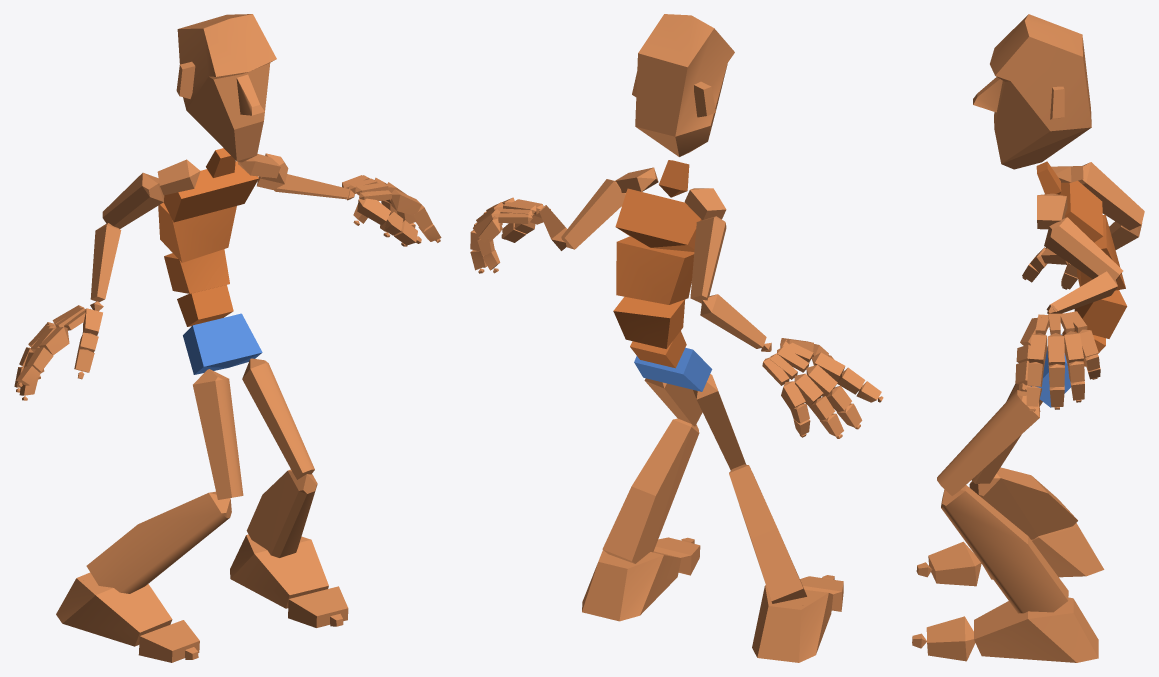
The model's file is prueba170.obj.
The picture shows the model from 3 angles, left to right: view 1: azimuth 30°, elevation 25°; view 2: azimuth 150°, elevation 25°; view 3: azimuth 270°, elevation 25°; orthographic projection. The views are drawn at different scales.
Parts seen in each view (by area): view 1: BOPED_Head, BOPED_R_leg, BOPED_R_foot, BOPED_R_foot01, BOPED_R_legup, BOPED_L_leg, BOPED_L_legup, Bone01, Bone04, Bone05, Bone03, BOPED_R_arm_upper (+8 smaller); view 2: BOPED_Head, BOPED_L_leg, BOPED_R_foot01, BOPED_R_foot, BOPED_R_leg, Bone04, Bone05, Bone03, BOPED_R_arm_upper, BOPED_L_arm_upper, BOPED_R_legup, Bone01 (+9 smaller); view 3: BOPED_Head, BOPED_L_leg, BOPED_R_foot01, BOPED_R_leg, BOPED_L_legup, BOPED_R_foot, BOPED_L_arm_upper, BOPED_R_arm_upper, BOPED_R_foot_toe01, BOPED_R_foot_toe04, Bone05, Bone03 (+14 smaller).
Part boxes in pixels (x1,y1,x2,y2): BOPED_Head: (176, 14, 276, 162); BOPED_R_leg: (86, 491, 231, 593); BOPED_R_foot: (56, 572, 172, 646); BOPED_R_foot01: (230, 534, 328, 608); BOPED_R_legup: (193, 369, 243, 499); BOPED_L_leg: (246, 469, 317, 557); BOPED_L_legup: (242, 358, 314, 479); Bone01: (183, 313, 262, 374); Bone04: (158, 202, 236, 262); Bone05: (164, 161, 258, 222); Bone03: (164, 249, 229, 293); BOPED_R_arm_upper: (102, 172, 164, 228); BOPED_Head: (632, 14, 734, 156); BOPED_L_leg: (602, 418, 699, 563); BOPED_R_foot01: (582, 550, 681, 621); BOPED_R_foot: (752, 585, 833, 662); BOPED_R_leg: (729, 464, 806, 603); Bone04: (616, 236, 694, 304); Bone05: (615, 188, 701, 251); Bone03: (613, 296, 685, 348); BOPED_R_arm_upper: (690, 216, 726, 303); BOPED_L_arm_upper: (561, 179, 625, 249); BOPED_R_legup: (693, 374, 745, 470); Bone01: (634, 347, 712, 391); BOPED_Head: (973, 14, 1091, 169); BOPED_L_leg: (941, 485, 1068, 613); BOPED_R_foot01: (974, 597, 1098, 662); BOPED_R_leg: (969, 467, 1077, 539); BOPED_L_legup: (937, 390, 1040, 495); BOPED_R_foot: (983, 523, 1104, 579); BOPED_L_arm_upper: (1044, 217, 1123, 280); BOPED_R_arm_upper: (1078, 162, 1144, 230); BOPED_R_foot_toe01: (928, 541, 981, 586); BOPED_R_foot_toe04: (926, 616, 975, 661); Bone05: (1060, 181, 1103, 242); Bone03: (1074, 290, 1127, 338).
Bounding box in the file's own units: 130 × 175 × 61.57.
